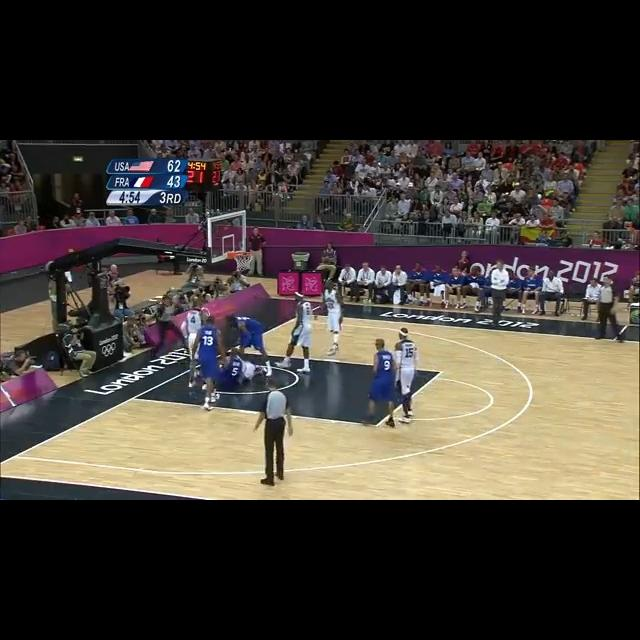hoop: (229, 251, 256, 271)
